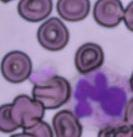N: (68, 66, 132, 127)
